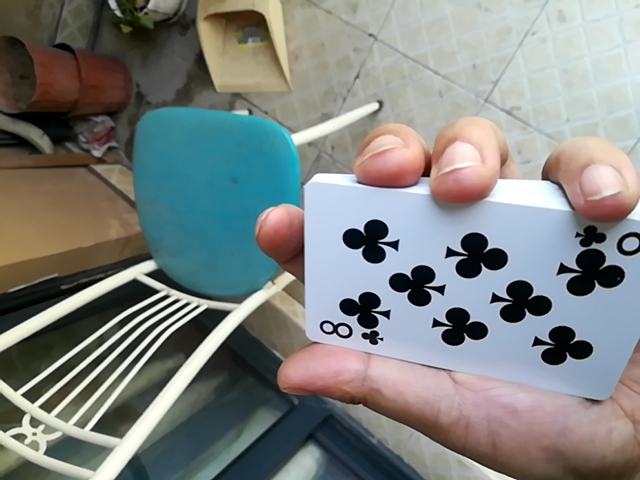mh 8: (297, 168, 629, 407)
